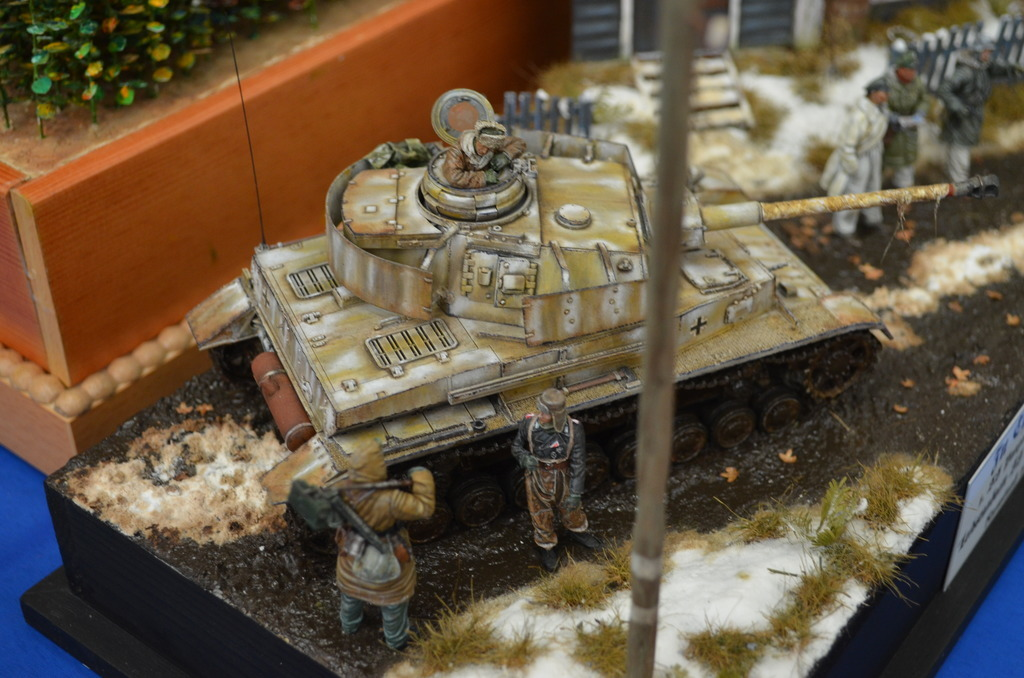person: (507, 385, 601, 558)
